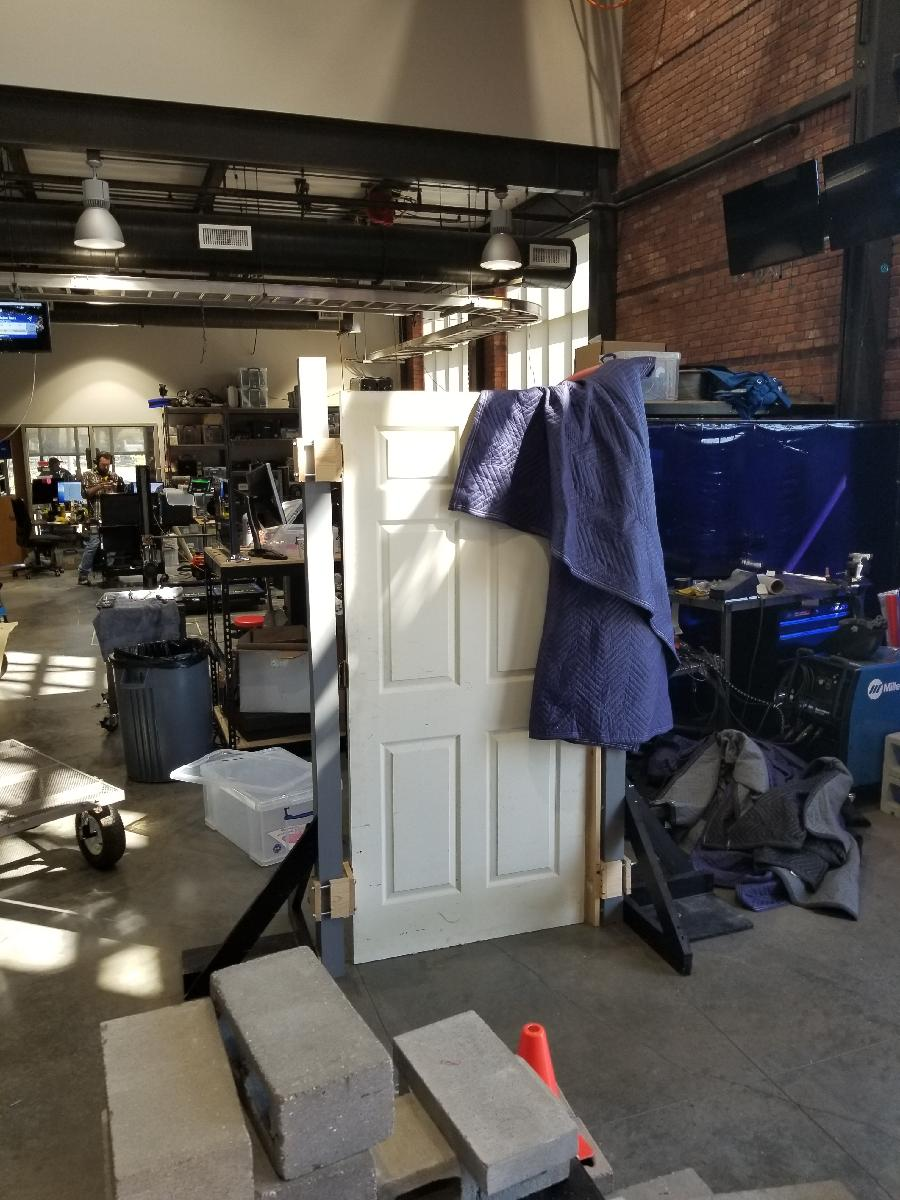door: (336, 386, 597, 976)
